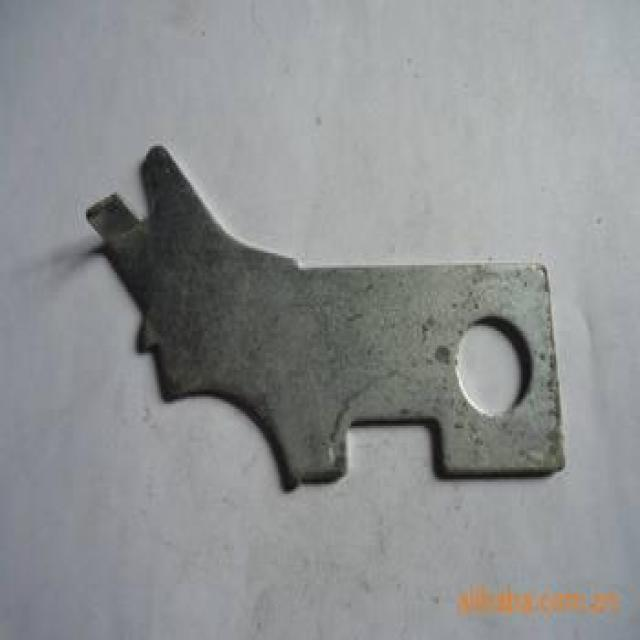recyclable: (85, 141, 565, 491)
